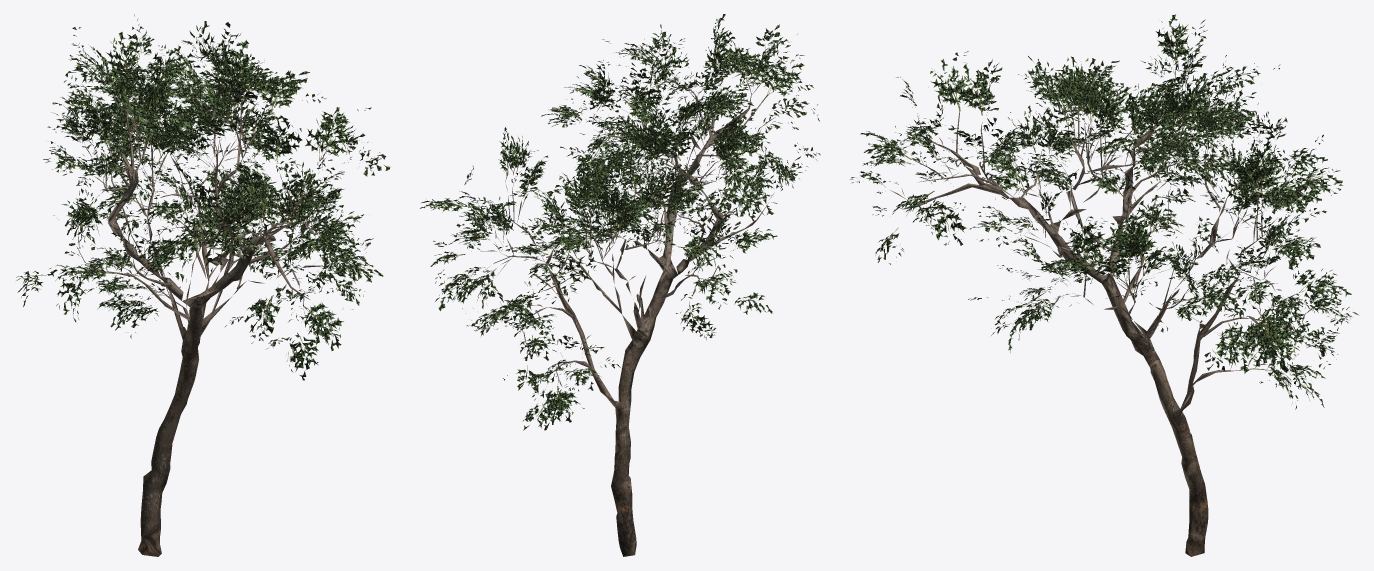
The model's file is tree.glb.
3 views of the same model, side by side, from view 1: azimuth 30°, elevation 25°; view 2: azimuth 150°, elevation 25°; view 3: azimuth 270°, elevation 25° (orthographic). The views are drawn at different scales.
Size of the model in its own units: 2.91 by 4.54 by 4.21.
3 materials, 3 textured.
